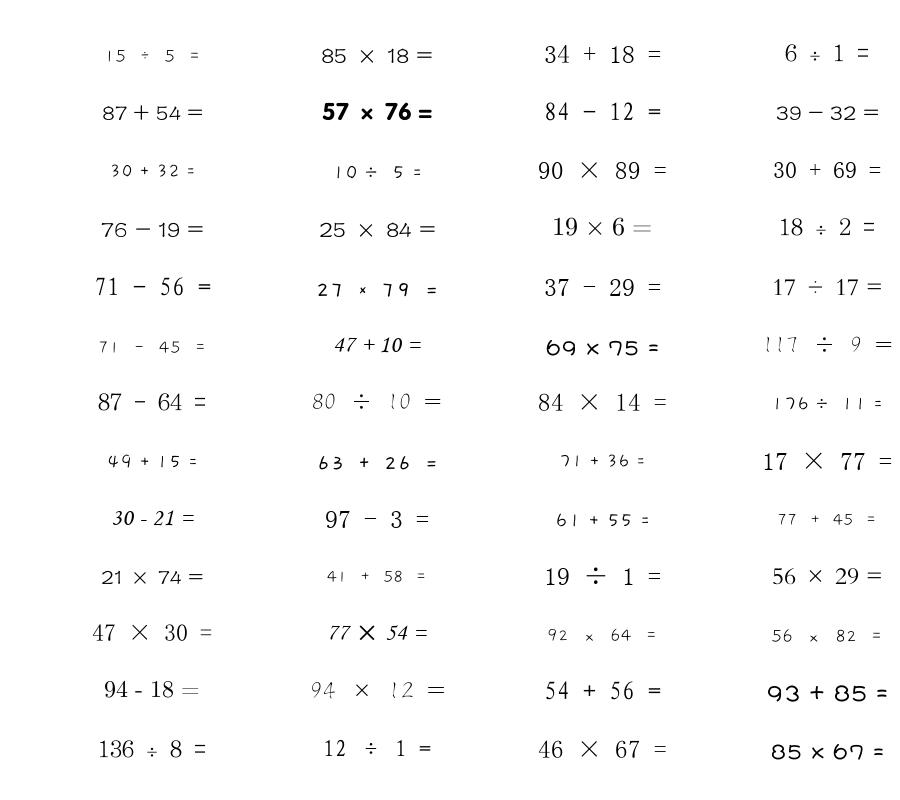MQ: (310, 681, 445, 699), (762, 452, 892, 470), (538, 393, 667, 411), (538, 740, 667, 758), (762, 336, 893, 353), (544, 102, 661, 121), (94, 277, 211, 296), (544, 681, 661, 700), (312, 393, 442, 410), (538, 162, 667, 179), (544, 45, 661, 63), (544, 567, 661, 585), (322, 102, 432, 121), (767, 685, 888, 702), (92, 624, 212, 641), (544, 279, 661, 296), (98, 393, 206, 411), (98, 740, 206, 758), (323, 739, 431, 757), (546, 339, 659, 356), (771, 743, 884, 760), (552, 217, 652, 236), (772, 279, 883, 296), (772, 568, 883, 585), (319, 222, 436, 238), (325, 511, 429, 528), (773, 162, 881, 178), (779, 218, 875, 236), (104, 680, 200, 698), (316, 283, 439, 297), (102, 104, 203, 121), (316, 456, 438, 470), (321, 48, 433, 63), (327, 625, 427, 641), (771, 397, 883, 411), (771, 629, 883, 643), (547, 628, 658, 642), (101, 222, 204, 237), (101, 570, 203, 585), (785, 44, 869, 62), (776, 106, 879, 120), (555, 513, 650, 528), (98, 341, 207, 354), (333, 337, 421, 353), (107, 454, 198, 469), (104, 49, 201, 63), (332, 165, 422, 180), (111, 510, 194, 526), (777, 513, 877, 526), (327, 570, 427, 583), (109, 164, 196, 178), (559, 454, 646, 468)
